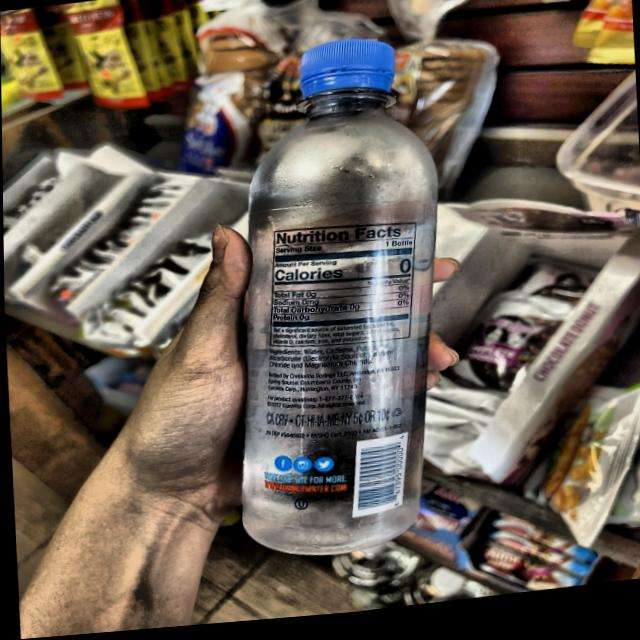Bottles: (197, 15, 460, 591)
